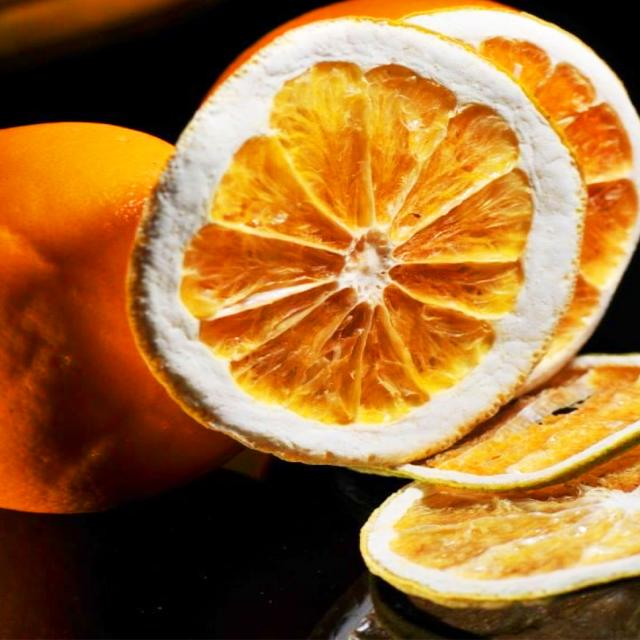Cascara de naranja: (6, 0, 640, 606)
